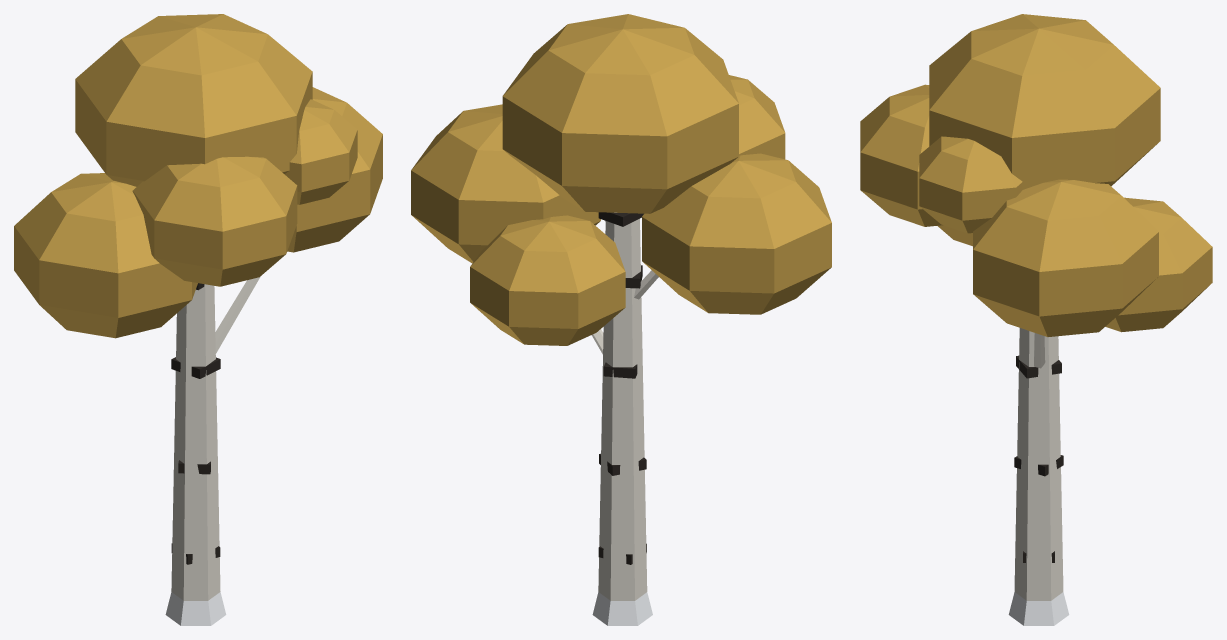
The model's file is birch.glb.
3 renders of one model, left to right at view 1: azimuth 30°, elevation 25°; view 2: azimuth 150°, elevation 25°; view 3: azimuth 270°, elevation 25°, orthographic.
Visible parts, largest first — view 1: birch; view 2: birch; view 3: birch.
Part boxes in pixels (x1=…): birch: x1=14, y1=14, x2=382, y2=625; birch: x1=411, y1=14, x2=831, y2=625; birch: x1=860, y1=14, x2=1212, y2=625.
Size of the model in its own units: 4.79 by 7.26 by 3.95.
